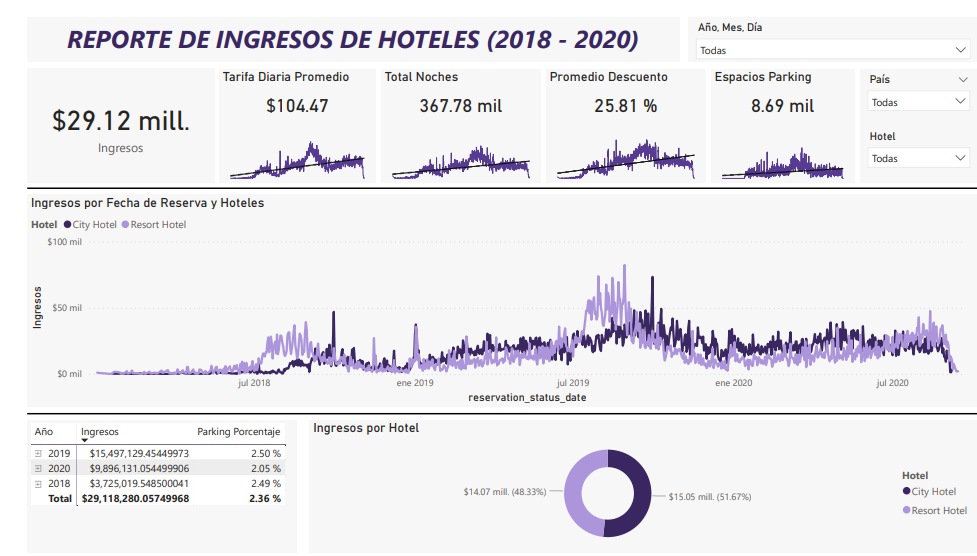

The dashboard page shown, as its layout file describes it:
{"tool":"powerbi","page":{"name":"Página 1","canvas":[1280,720],"ordinal":0},"visuals":[{"type":"card","fields":{"Values":["Sum(Consulta1.Ingresos)"]},"box":[14,67.6,245.9,150.1],"z":0},{"type":"card","title":"Tarifa Diaria Promedio","fields":{"Values":["Avg(Consulta1.adr)"]},"box":[266.5,68.1,206.2,74.9],"z":1000},{"type":"card","title":"Total Noches","fields":{"Values":["Consulta1.Total Nights"]},"box":[479.5,68.1,210.1,74.9],"z":2000},{"type":"card","title":"Promedio Descuento","fields":{"Values":["Avg(Consulta1.Discount)"]},"box":[696.4,68.1,210.1,74.9],"z":3000},{"type":"lineChart","title":"Ingresos por Fecha de Reserva  y Hoteles","fields":{"Category":["Consulta1.reservation_status_date"],"Y":["Sum(Consulta1.Ingresos)"],"Series":["Consulta1.hotel"]},"box":[14.4,233.2,1250.3,279.2],"z":4000},{"type":"slicer","fields":{"Values":["Consulta1.country"]},"box":[1109.5,68,155.2,74.7],"z":5000},{"type":"slicer","fields":{"Values":["Consulta1.hotel"]},"box":[1109.5,142.8,155.2,74.7],"z":6000},{"type":"lineChart","fields":{"Category":["Consulta1.reservation_status_date"],"Y":["Sum(Consulta1.average_daily_rate)"]},"box":[266.5,143,206.2,74.9],"z":7000},{"type":"lineChart","fields":{"Category":["Consulta1.reservation_status_date"],"Y":["Consulta1.Total Nights"]},"box":[479.5,143,210.1,74.9],"z":8000},{"type":"card","title":"Espacios Parking","fields":{"Values":["Sum(Consulta1.required_car_parking_spaces)"]},"box":[913.3,68.1,188.7,74.9],"z":9000},{"type":"lineChart","fields":{"Category":["Consulta1.reservation_status_date"],"Y":["Sum(Consulta1.required_car_parking_spaces)"]},"box":[913.3,143,188.7,74.9],"z":10000},{"type":"donutChart","fields":{"Category":["Consulta1.hotel"],"Y":["Sum(Consulta1.Ingresos)"]},"box":[385.7,529.7,878.9,173.7],"z":11000},{"type":"pivotTable","fields":{"Rows":["Consulta1.reservation_status_date.Variación.Jerarquía de fechas.Año","Consulta1.hotel"],"Values":["Sum(Consulta1.Ingresos)","Consulta1.Parking Percentage"]},"box":[14.4,529.7,355,173.7],"z":12000},{"type":"slicer","fields":{"Values":["Consulta1.reservation_status_date.Variación.Jerarquía de fechas.Año","Consulta1.reservation_status_date.Variación.Jerarquía de fechas.Mes","Consulta1.reservation_status_date.Variación.Jerarquía de fechas.Día"]},"box":[883.7,0,380.9,59.5],"z":13000},{"type":"lineChart","fields":{"Category":["Consulta1.reservation_status_date"],"Y":["Sum(Consulta1.Discount)"]},"box":[696.4,143,210.1,74.9],"z":14000},{"type":"shape","box":[14.4,216.9,1250.3,16.3],"z":14001},{"type":"shape","box":[14.4,513.3,1250.3,16.3],"z":14002},{"type":"textbox","box":[14.4,0,857.8,59.5],"z":14003}]}

Visuals, with their boxes in screenshot pixels (x1, y1, x2, y2), scaled from the page's 1280x720 canvas onto the 977x556 screenshot:
card - Sum(Consulta1.Ingresos): pyautogui.locateOnScreen(11, 52, 198, 168)
"Tarifa Diaria Promedio" card: pyautogui.locateOnScreen(203, 53, 361, 110)
"Total Noches" card: pyautogui.locateOnScreen(366, 53, 526, 110)
"Promedio Descuento" card: pyautogui.locateOnScreen(532, 53, 692, 110)
"Ingresos por Fecha de Reserva  y Hoteles" lineChart: pyautogui.locateOnScreen(11, 180, 965, 396)
slicer - Consulta1.country: pyautogui.locateOnScreen(847, 53, 965, 110)
slicer - Consulta1.hotel: pyautogui.locateOnScreen(847, 110, 965, 168)
lineChart - Consulta1.reservation_status_date x Sum(Consulta1.average_daily_rate): pyautogui.locateOnScreen(203, 110, 361, 168)
lineChart - Consulta1.reservation_status_date x Consulta1.Total Nights: pyautogui.locateOnScreen(366, 110, 526, 168)
"Espacios Parking" card: pyautogui.locateOnScreen(697, 53, 841, 110)
lineChart - Consulta1.reservation_status_date x Sum(Consulta1.required_car_parking_spaces): pyautogui.locateOnScreen(697, 110, 841, 168)
donutChart - Consulta1.hotel x Sum(Consulta1.Ingresos): pyautogui.locateOnScreen(294, 409, 965, 543)
pivotTable - Consulta1.reservation_status_date.Variación.Jerarquía de fechas.Año x Consulta1.hotel: pyautogui.locateOnScreen(11, 409, 282, 543)
slicer - Consulta1.reservation_status_date.Variación.Jerarquía de fechas.Año x Consulta1.reservation_status_date.Variación.Jerarquía de fechas.Mes: pyautogui.locateOnScreen(675, 0, 965, 46)
lineChart - Consulta1.reservation_status_date x Sum(Consulta1.Discount): pyautogui.locateOnScreen(532, 110, 692, 168)
shape: pyautogui.locateOnScreen(11, 167, 965, 180)
shape: pyautogui.locateOnScreen(11, 396, 965, 409)
textbox: pyautogui.locateOnScreen(11, 0, 666, 46)
